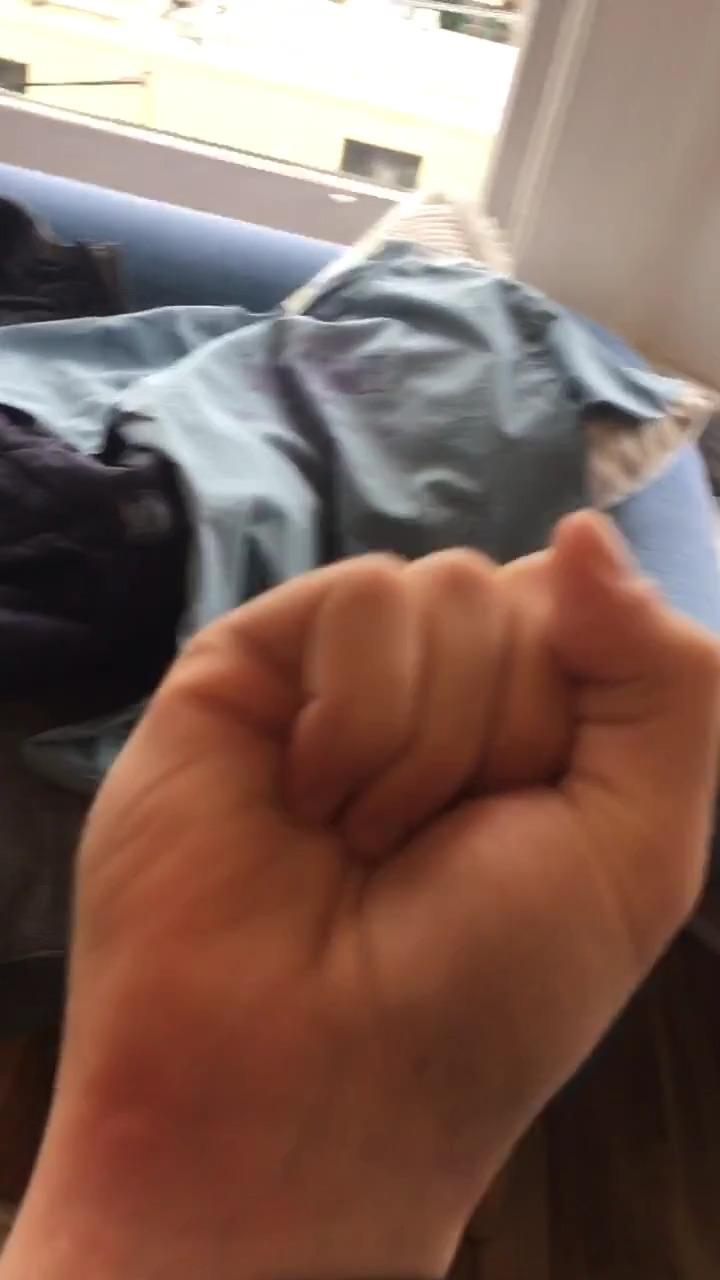Rock: (62, 498, 720, 1166)
